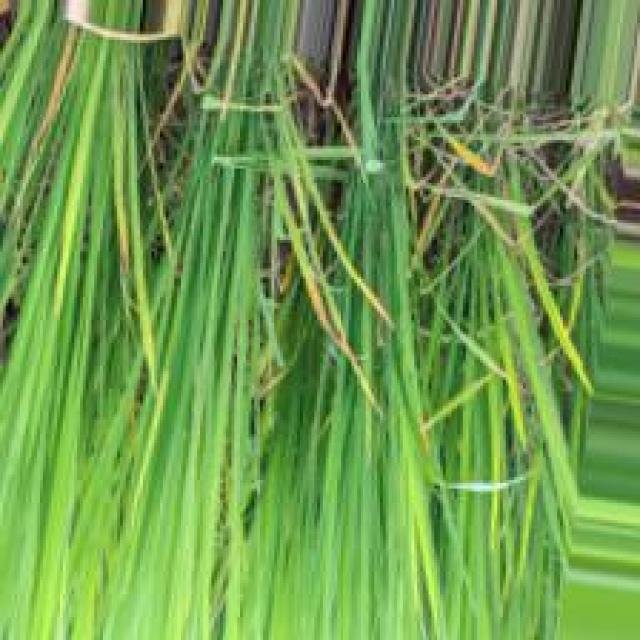HealthyLeaf: (152, 418, 179, 482), (333, 445, 349, 493)
